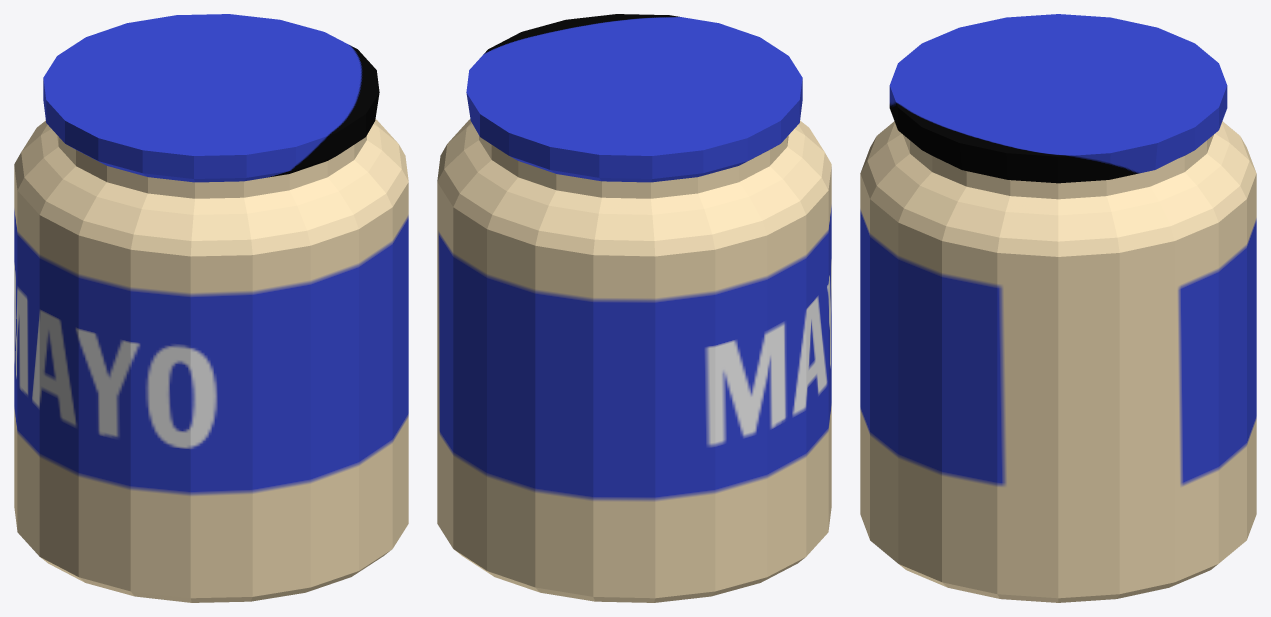
Rendered from Mayonnaise.obj.
3 views of the same model, side by side, from view 1: azimuth 30°, elevation 25°; view 2: azimuth 150°, elevation 25°; view 3: azimuth 270°, elevation 25° (orthographic).
Bounding box in the file's own units: 1.7 × 2.12 × 1.7.
1 material, 1 textured.
